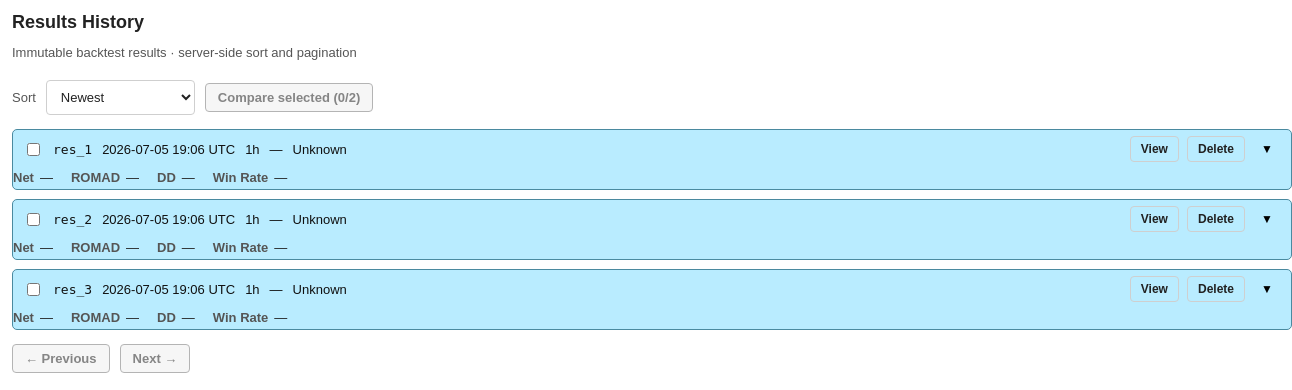
Test case: Results History compare & soft-delete › caps the compare selection at two rows
Expected: the text "res_3" is shown, [53, 282, 92, 296]
Step 1. Click the checkbox named "Select res_1 for compare" → (34, 149), box [27, 142, 40, 156]
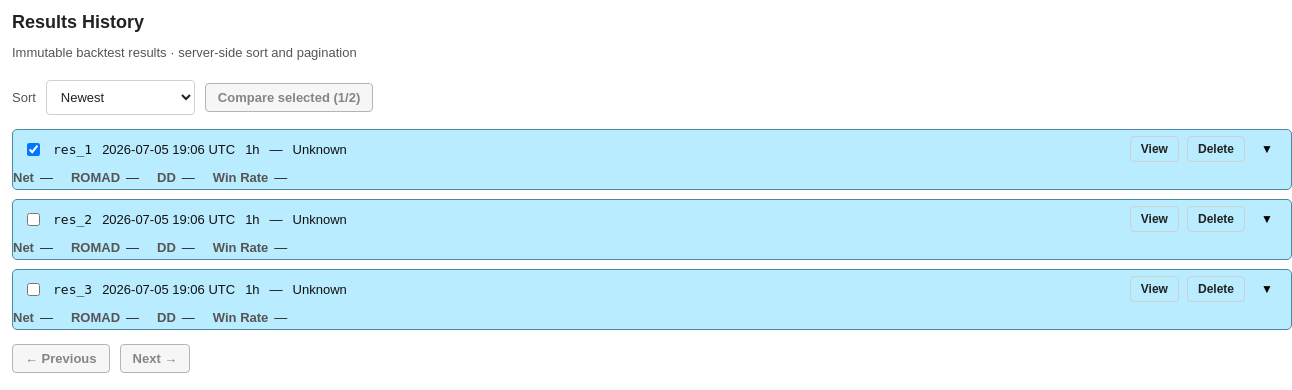
Step 2. Click the checkbox named "Select res_2 for compare" → (34, 219), box [27, 212, 40, 226]
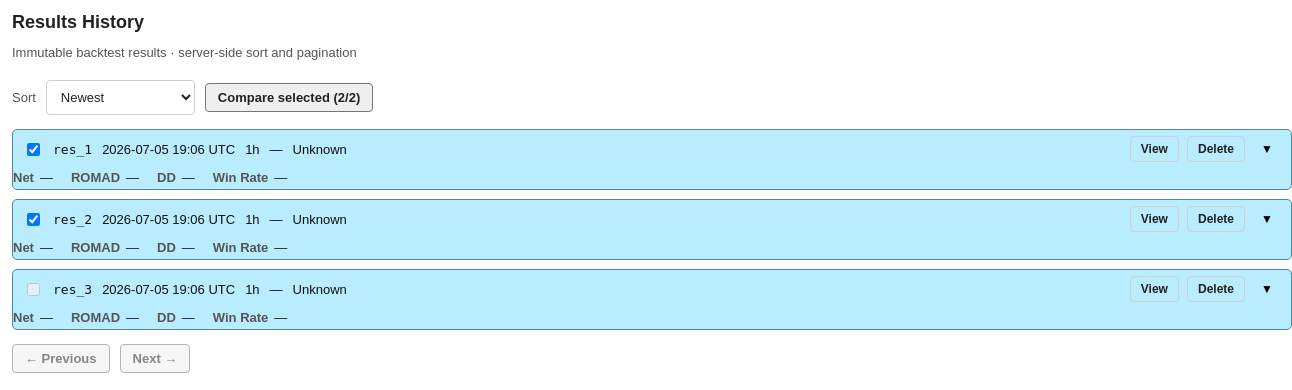
Expected: the checkbox named "Select res_3 for compare" is disabled, [27, 282, 40, 296]
# Deselecting frees a slot again.
Step 3. Click the checkbox named "Select res_1 for compare" → (34, 149), box [27, 142, 40, 156]
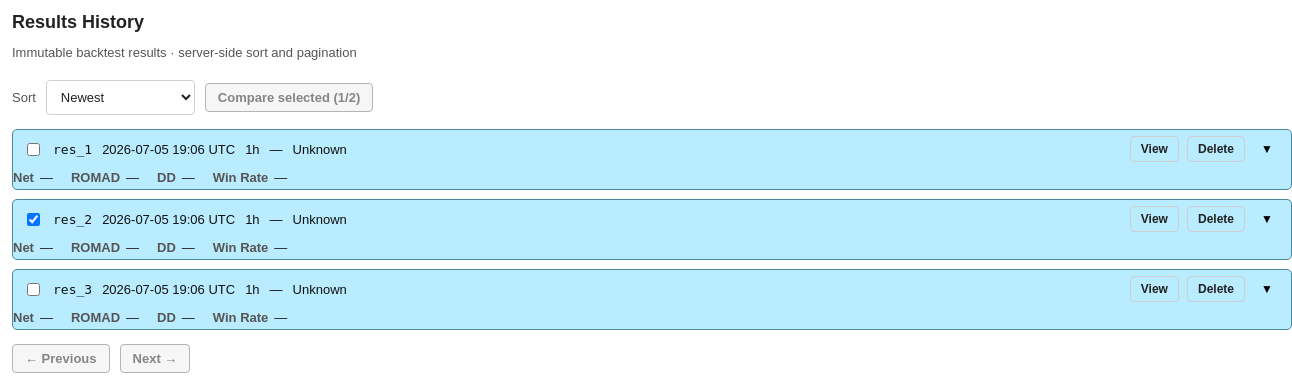
Expected: the checkbox named "Select res_3 for compare" is enabled, [27, 282, 40, 296]
